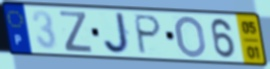3: (31, 9, 58, 51)
6: (209, 16, 237, 60)
J: (102, 11, 133, 55)
O: (174, 14, 208, 60)
P: (134, 13, 164, 56)
Z: (58, 9, 94, 54)
